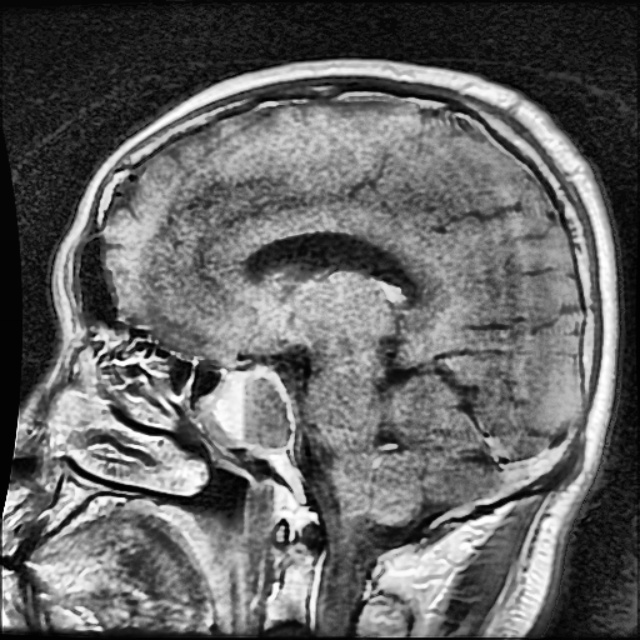Pituitary: (205, 364, 297, 454)
